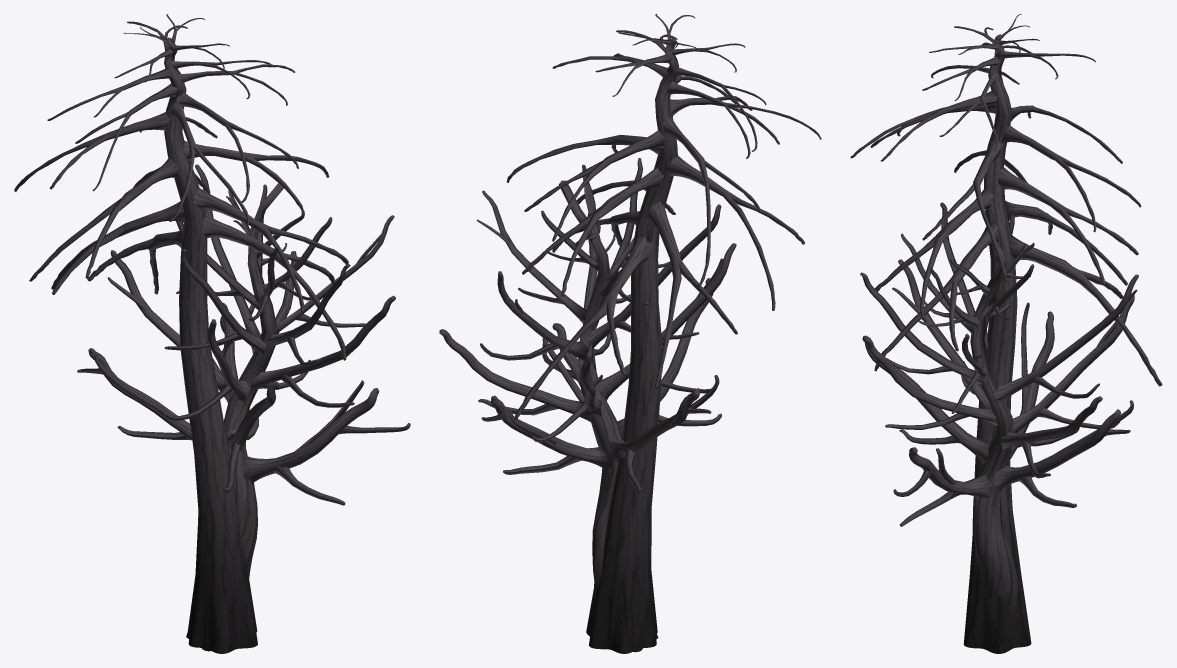
Rendered from megakit-deadtrees.phone.glb.
3 views of the same model, side by side, from view 1: azimuth 30°, elevation 25°; view 2: azimuth 150°, elevation 25°; view 3: azimuth 270°, elevation 25° (orthographic). The views are drawn at different scales.
Visible parts, largest first — view 1: DeadTree_3, DeadTree_1; view 2: DeadTree_3, DeadTree_1; view 3: DeadTree_1, DeadTree_3.
Part boxes in pixels (bbox=[...]): DeadTree_3: bbox=[14, 14, 348, 653]; DeadTree_1: bbox=[77, 164, 410, 651]; DeadTree_3: bbox=[506, 14, 821, 653]; DeadTree_1: bbox=[439, 158, 736, 652]; DeadTree_1: bbox=[860, 202, 1138, 615]; DeadTree_3: bbox=[850, 14, 1162, 653].
Bounding box in the file's own units: 7.4 × 13.28 × 6.43.
Materials: 1 (1 with a texture image).
